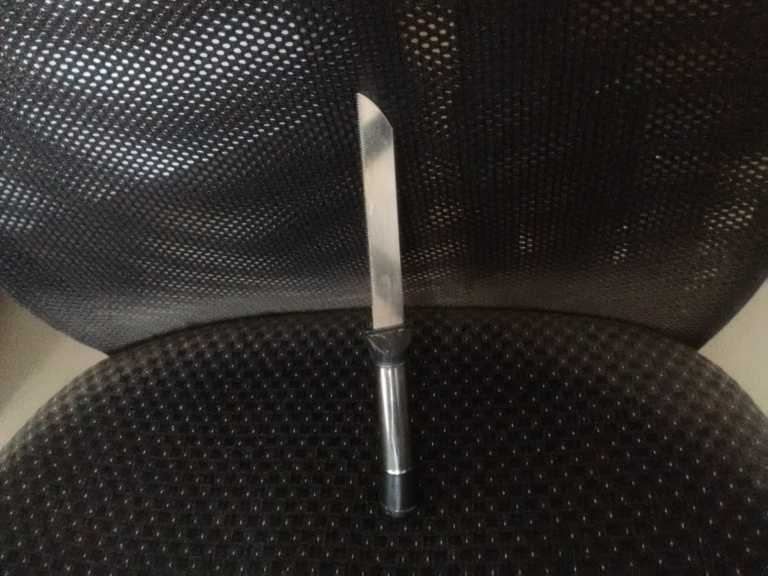knife: (349, 90, 422, 518)
